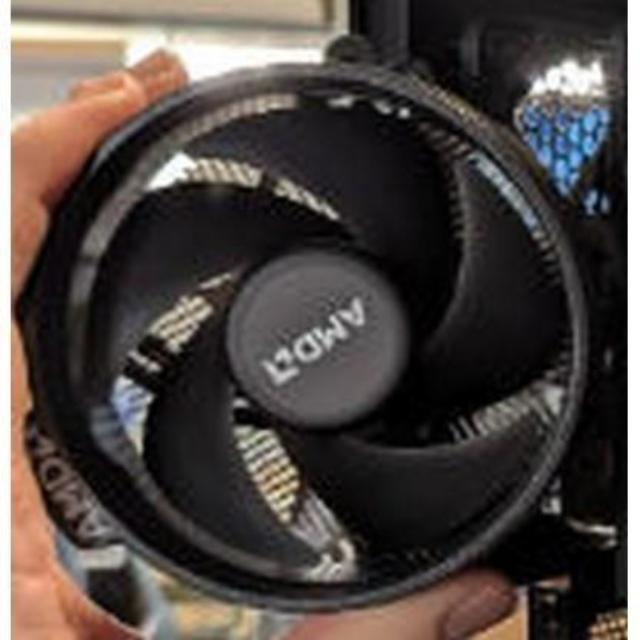CPU_Fan: (47, 83, 570, 585)
